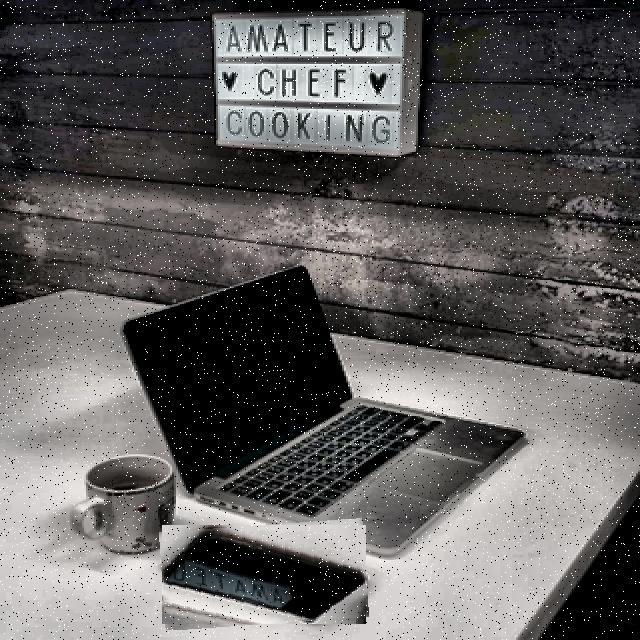Phone: (160, 522, 368, 628)
